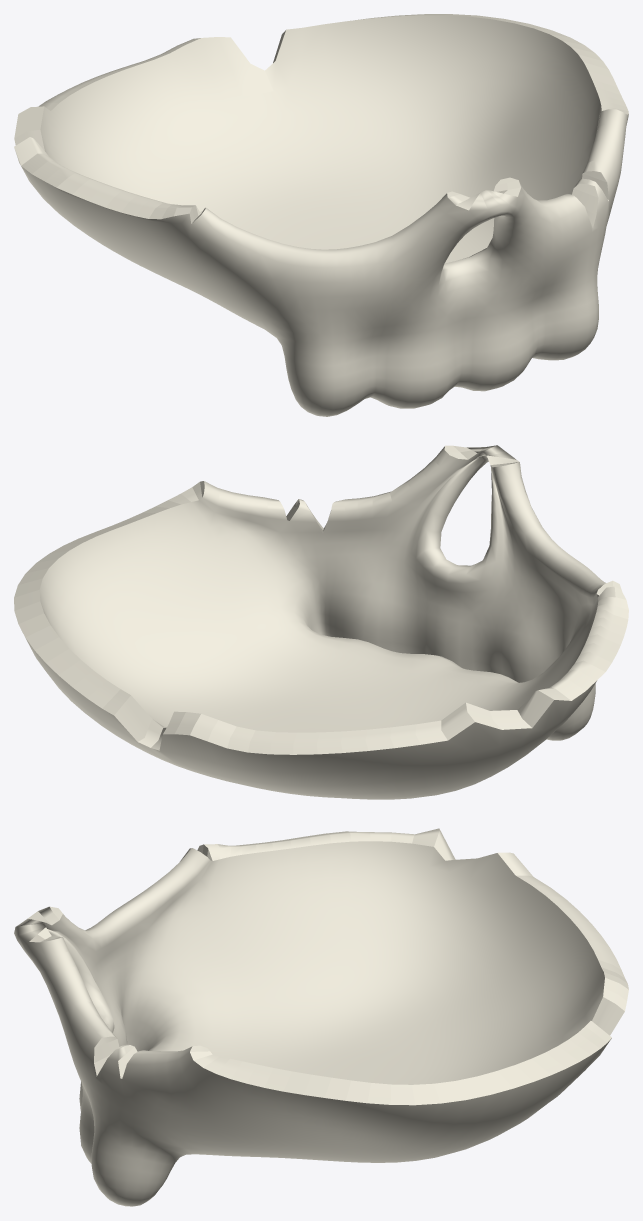
Rendered from rocio.fbx.
The picture shows the model from 3 angles, top to bottom: view 1: azimuth 30°, elevation 25°; view 2: azimuth 150°, elevation 25°; view 3: azimuth 270°, elevation 25°; orthographic projection.
Parts seen in each view (by area): view 1: Rocio5; view 2: Rocio5; view 3: Rocio5.
Boxes of the visible parts, <box> form: Rocio5: <box>14,14,628,416</box>; Rocio5: <box>14,445,628,799</box>; Rocio5: <box>14,828,628,1206</box>.
Size of the model in its own units: 643 by 258 by 628.
